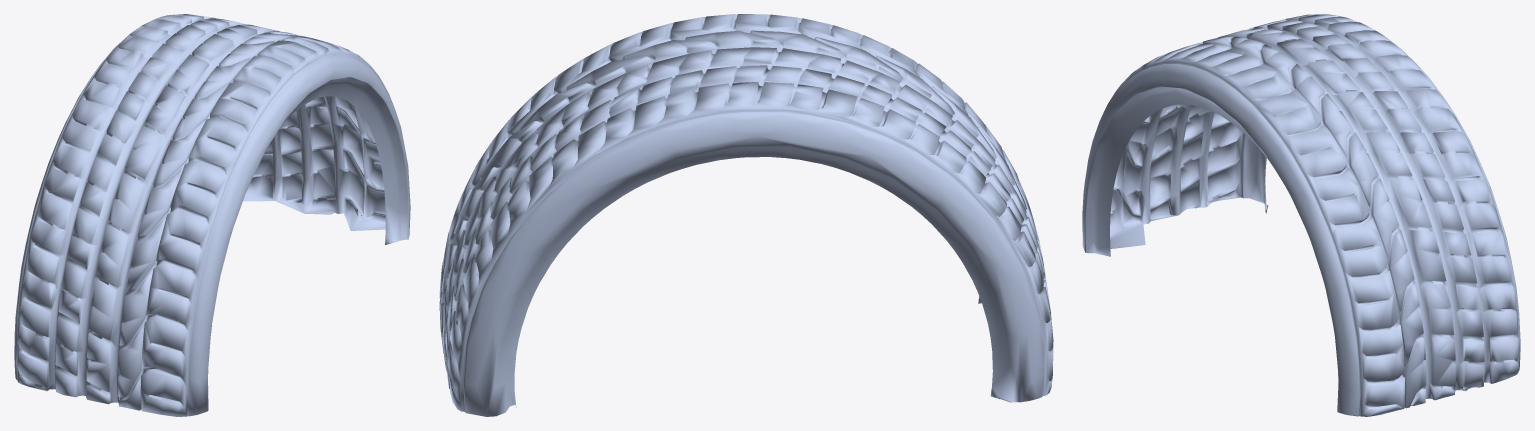
File: ruota_LODs.fbx
The picture shows the model from 3 angles, left to right: view 1: azimuth 30°, elevation 25°; view 2: azimuth 150°, elevation 25°; view 3: azimuth 270°, elevation 25°; orthographic projection. The views are drawn at different scales.
Parts seen in each view (by area): view 1: ruota_LOD0; view 2: ruota_LOD0; view 3: ruota_LOD0.
Boxes of the visible parts, x1,y1,x2,y2 form: ruota_LOD0: [14, 14, 410, 416]; ruota_LOD0: [439, 14, 1053, 416]; ruota_LOD0: [1082, 14, 1520, 416].
Size of what is drawn, in the model's own units: 1344 by 736 by 1128.
